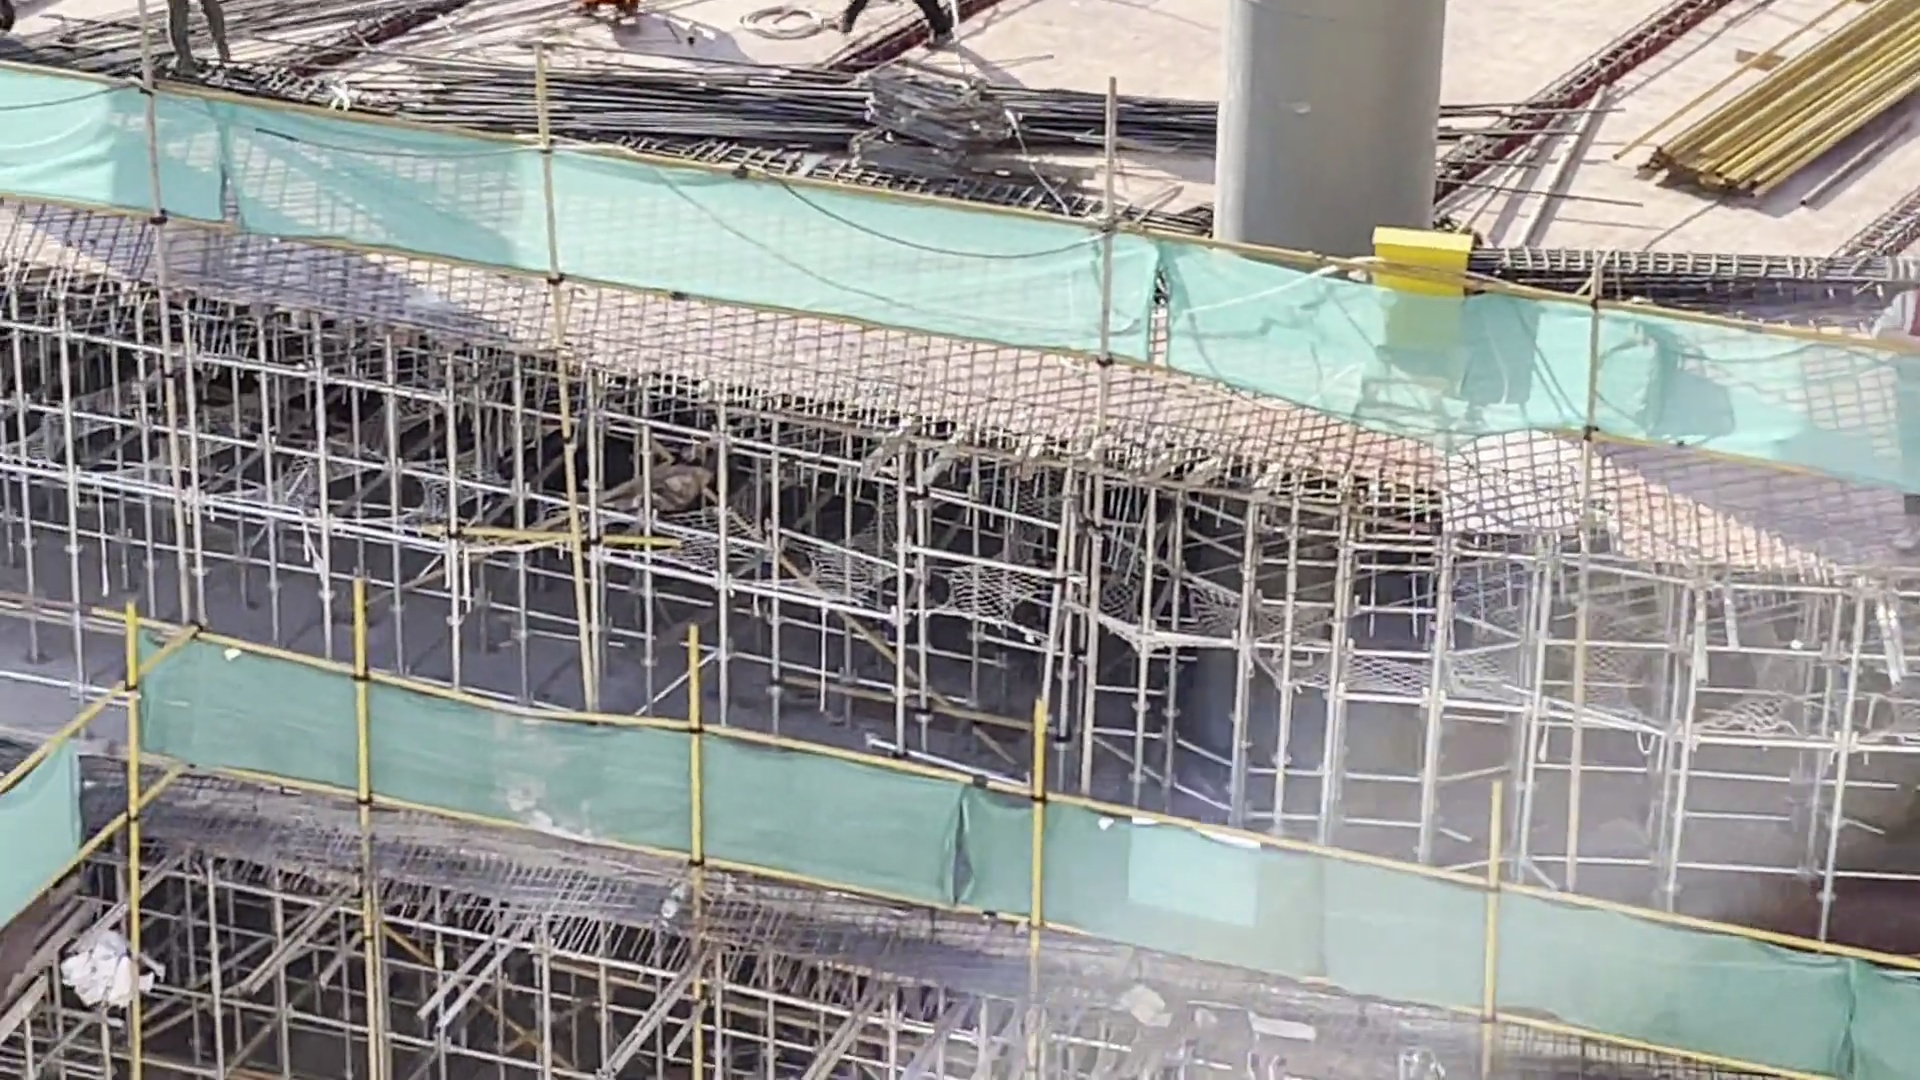ebox: (1367, 208, 1470, 371)
